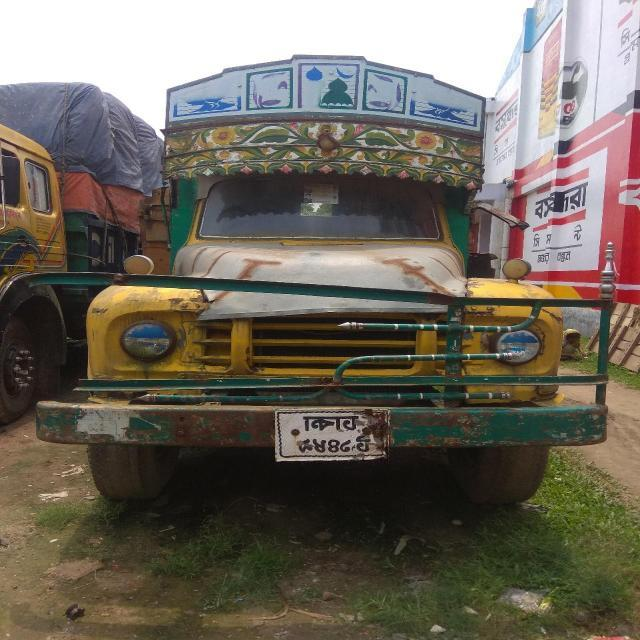numberplate: (275, 409, 388, 462)
